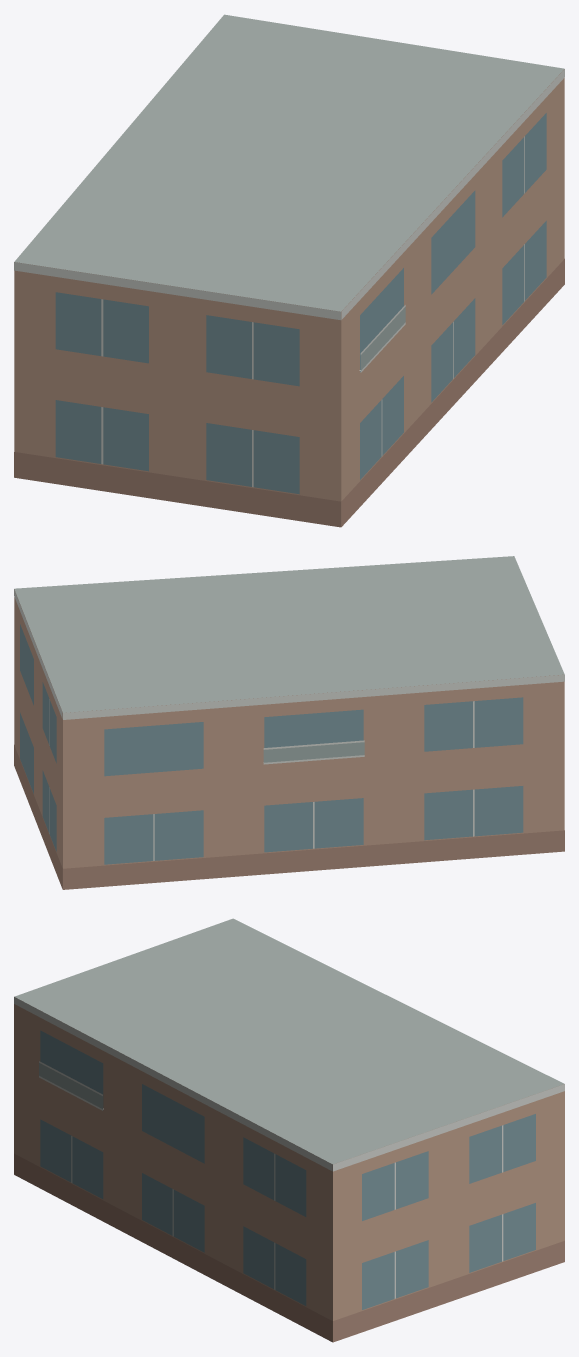
File: survey-upis-32678589.glb
3 views of the same model, one above another, from view 1: azimuth 30°, elevation 25°; view 2: azimuth 150°, elevation 25°; view 3: azimuth 270°, elevation 25° (orthographic). The views are drawn at different scales.
Visible parts, largest first — view 1: survey-upis-32678589.tmp; view 2: survey-upis-32678589.tmp; view 3: survey-upis-32678589.tmp.
Part boxes in pixels (x1,y1,x2,y2): survey-upis-32678589.tmp: (14, 14, 564, 527); survey-upis-32678589.tmp: (14, 556, 564, 889); survey-upis-32678589.tmp: (14, 918, 564, 1342).
Bounding box in the file's own units: 18.09 × 6.1 × 17.12.
